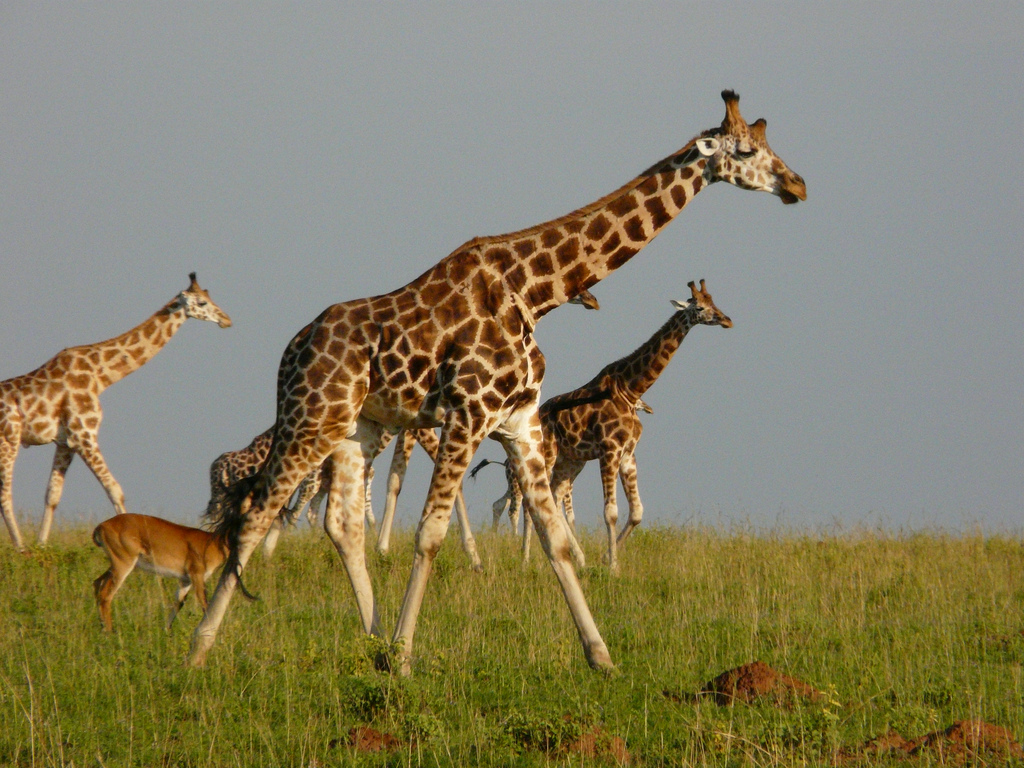giraffe: (252, 82, 838, 630), (488, 274, 764, 586), (1, 250, 248, 513), (66, 486, 313, 613)
